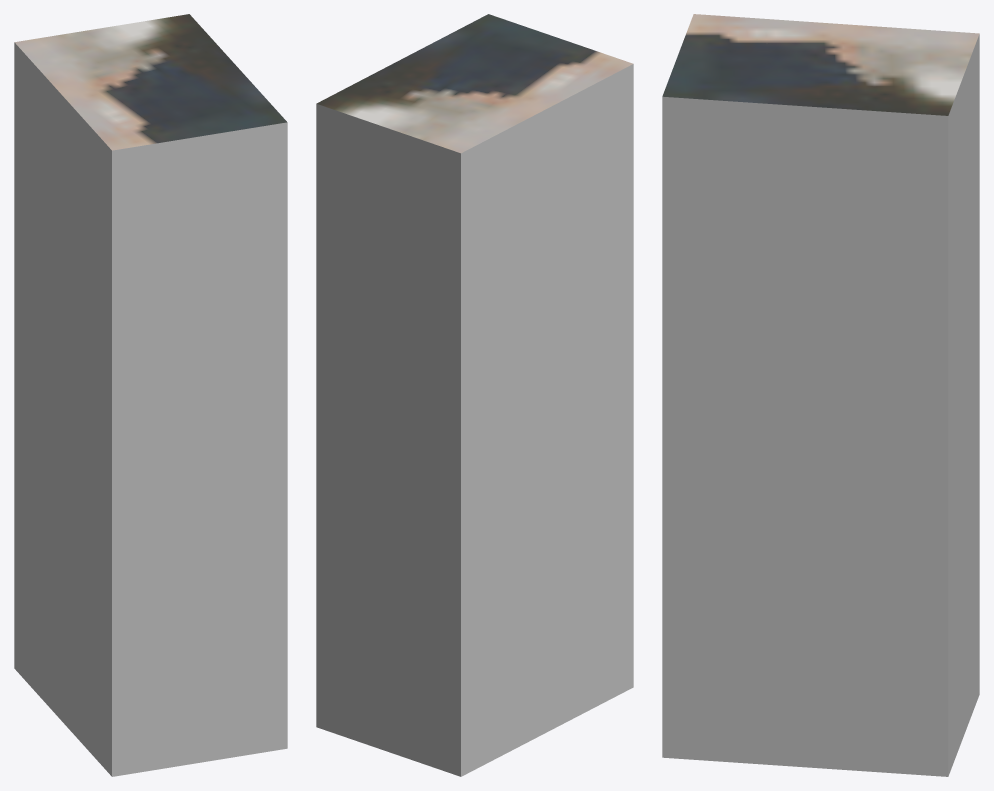
Rendered from DEBW_0010007TxbI.gltf.
3 views of the same model, side by side, from view 1: azimuth 30°, elevation 25°; view 2: azimuth 150°, elevation 25°; view 3: azimuth 270°, elevation 25° (orthographic). The views are drawn at different scales.
Visible parts, largest first — view 1: Z_UP; view 2: Z_UP; view 3: Z_UP.
Part boxes in pixels (x1=…): Z_UP: x1=14, y1=14, x2=287, y2=776; Z_UP: x1=316, y1=14, x2=633, y2=776; Z_UP: x1=662, y1=14, x2=979, y2=776.
Size of the model in its own units: 5.08 by 15.35 by 6.68.
Materials: 2 (1 with a texture image).
